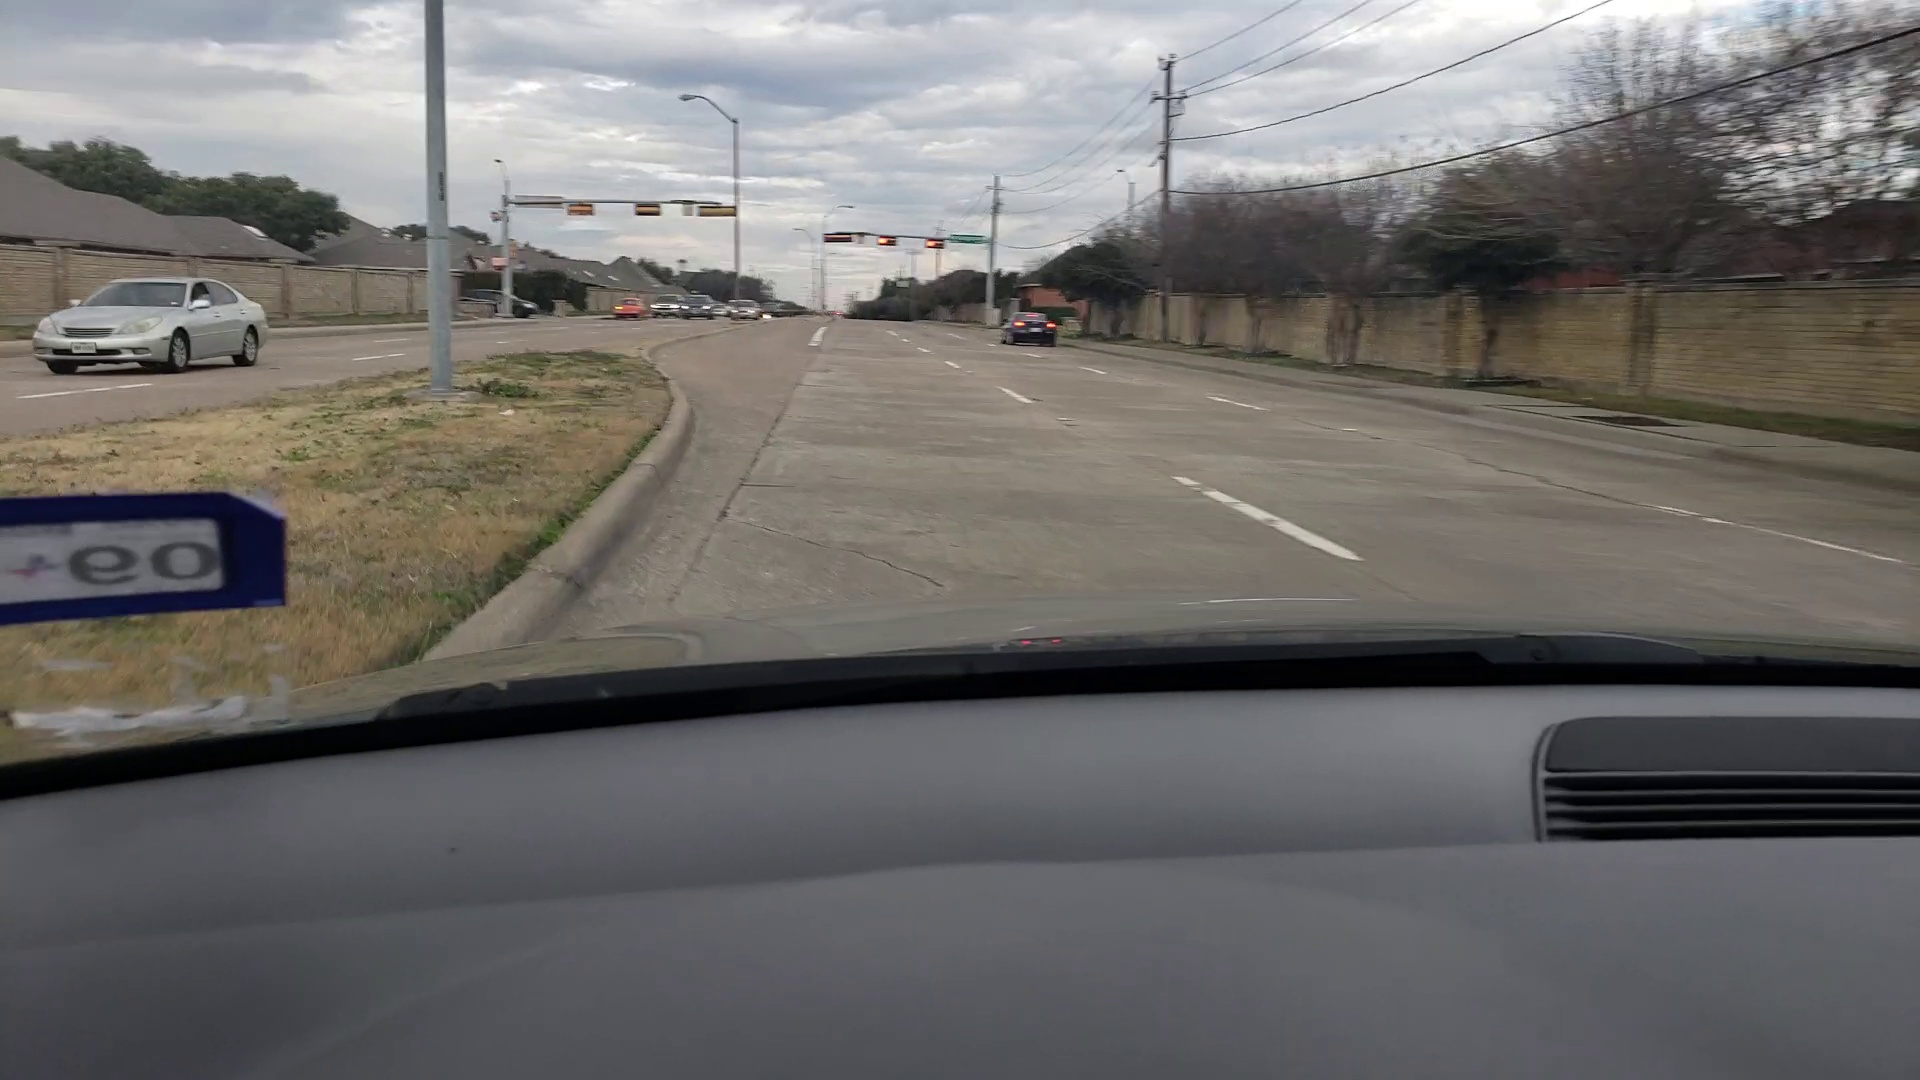car: (28, 272, 273, 373), (994, 309, 1056, 347), (467, 287, 539, 318), (615, 295, 647, 320), (684, 294, 717, 318), (654, 295, 684, 316), (731, 299, 764, 318)
traffic light: (823, 232, 851, 244), (878, 235, 899, 247), (924, 237, 945, 248)
